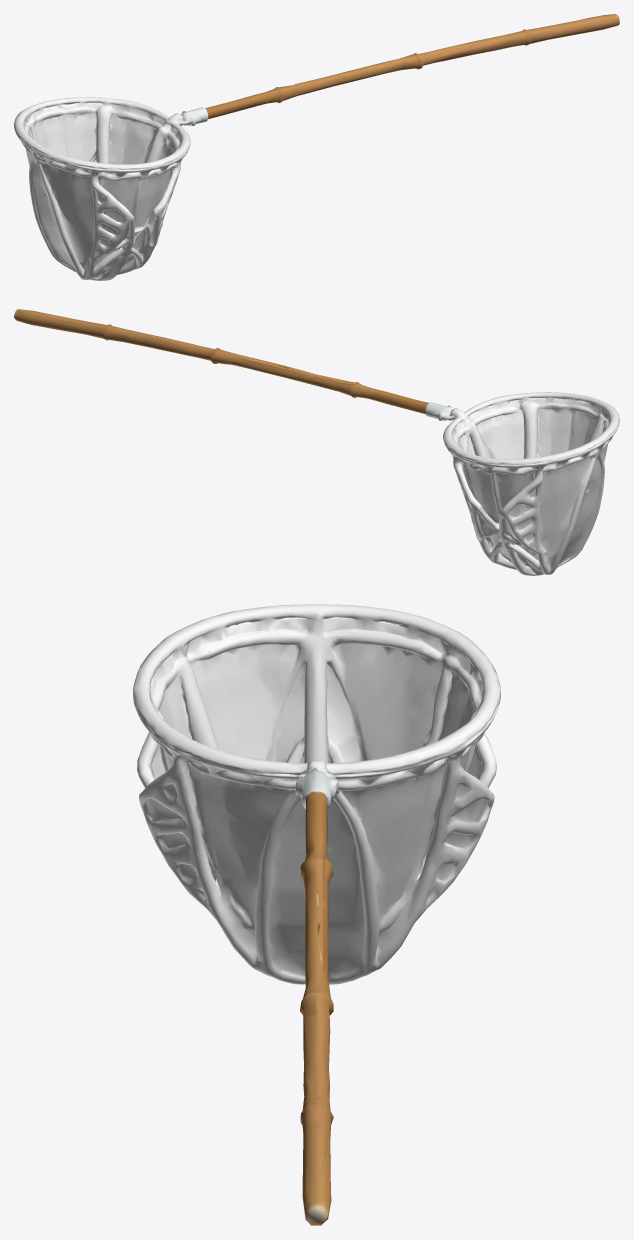
Rendered from ButterflyNet.glb.
3 views of the same model, one above another, from view 1: azimuth 30°, elevation 25°; view 2: azimuth 150°, elevation 25°; view 3: azimuth 270°, elevation 25° (orthographic). The views are drawn at different scales.
Parts seen in each view (by area): view 1: tripo_node_bc297293-8fd0-476d-b1d0-2f8657032fda; view 2: tripo_node_bc297293-8fd0-476d-b1d0-2f8657032fda; view 3: tripo_node_bc297293-8fd0-476d-b1d0-2f8657032fda.
Boxes of the visible parts, x1,y1,x2,y2 form: tripo_node_bc297293-8fd0-476d-b1d0-2f8657032fda: (14, 14, 619, 280); tripo_node_bc297293-8fd0-476d-b1d0-2f8657032fda: (14, 309, 619, 575); tripo_node_bc297293-8fd0-476d-b1d0-2f8657032fda: (133, 604, 500, 1225).
Bounding box in the file's own units: 0.982 × 0.2433 × 0.2656.
Materials: 1 (1 with a texture image).
